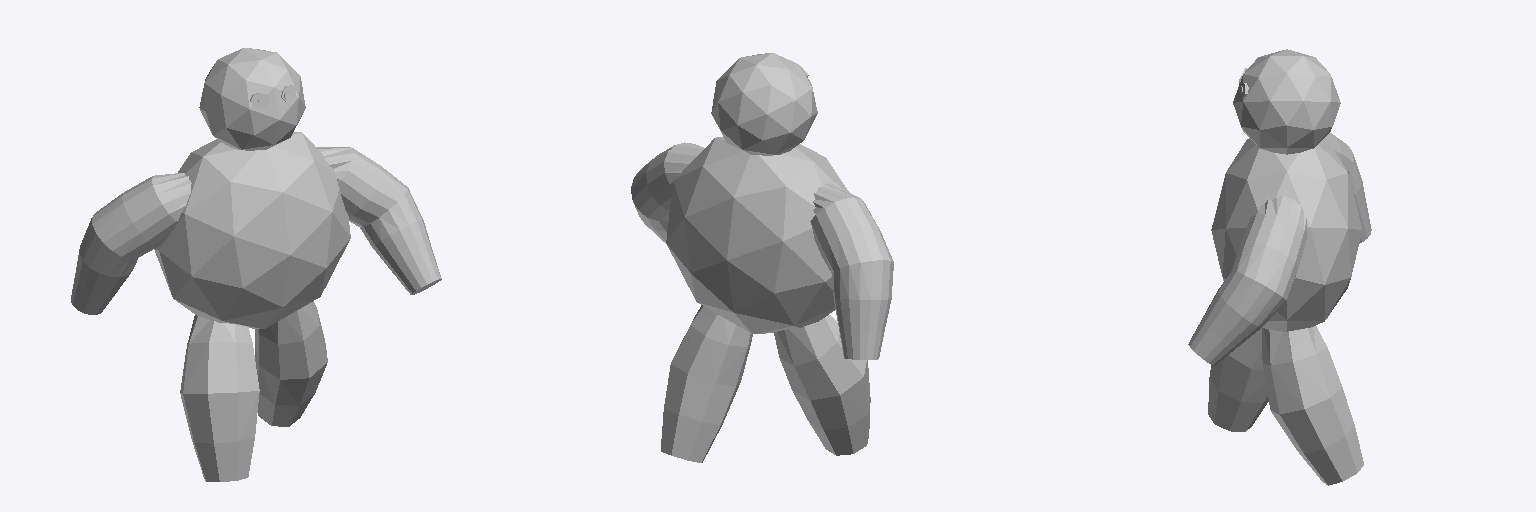
The model's file is bigboi_000010.obj.
3 renders of one model, left to right at view 1: azimuth 30°, elevation 25°; view 2: azimuth 150°, elevation 25°; view 3: azimuth 270°, elevation 25°, orthographic.
Visible parts, largest first — view 1: Icosphere_bigboi; view 2: Icosphere_bigboi; view 3: Icosphere_bigboi.
Boxes of the visible parts, box(x1,y1,x2,y2) form: Icosphere_bigboi: box(71, 48, 441, 481); Icosphere_bigboi: box(631, 53, 893, 462); Icosphere_bigboi: box(1188, 49, 1371, 485).
Bounding box in the file's own units: 6.28 × 8.16 × 3.4.